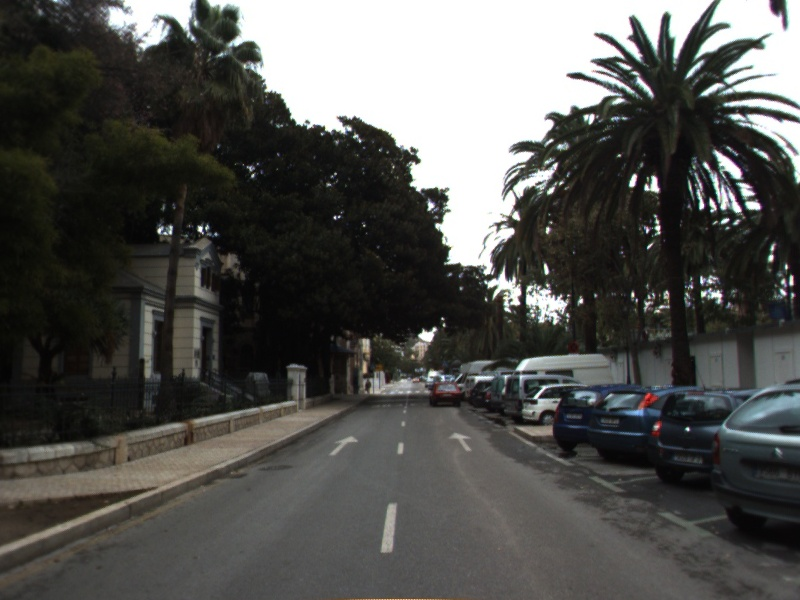STRAIGHT: (327, 434, 360, 457), (446, 430, 475, 453)
